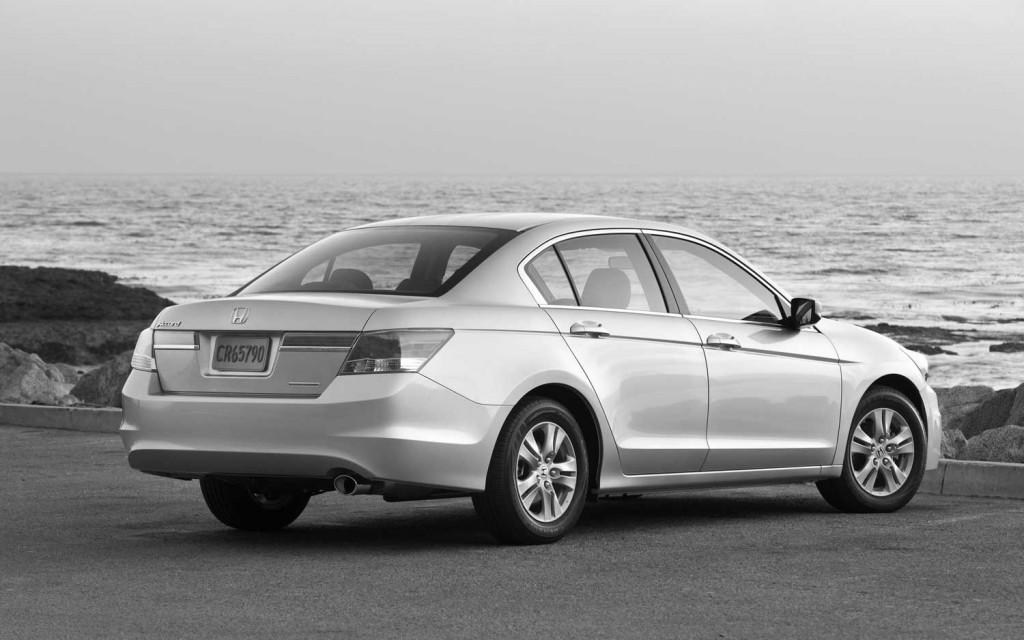car: (123, 207, 947, 543)
